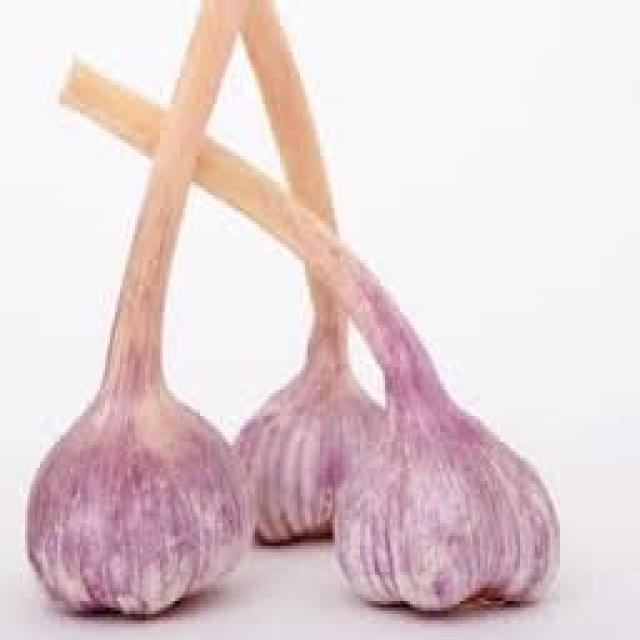organic waste: (55, 55, 557, 611), (22, 0, 248, 614), (230, 0, 388, 543)
